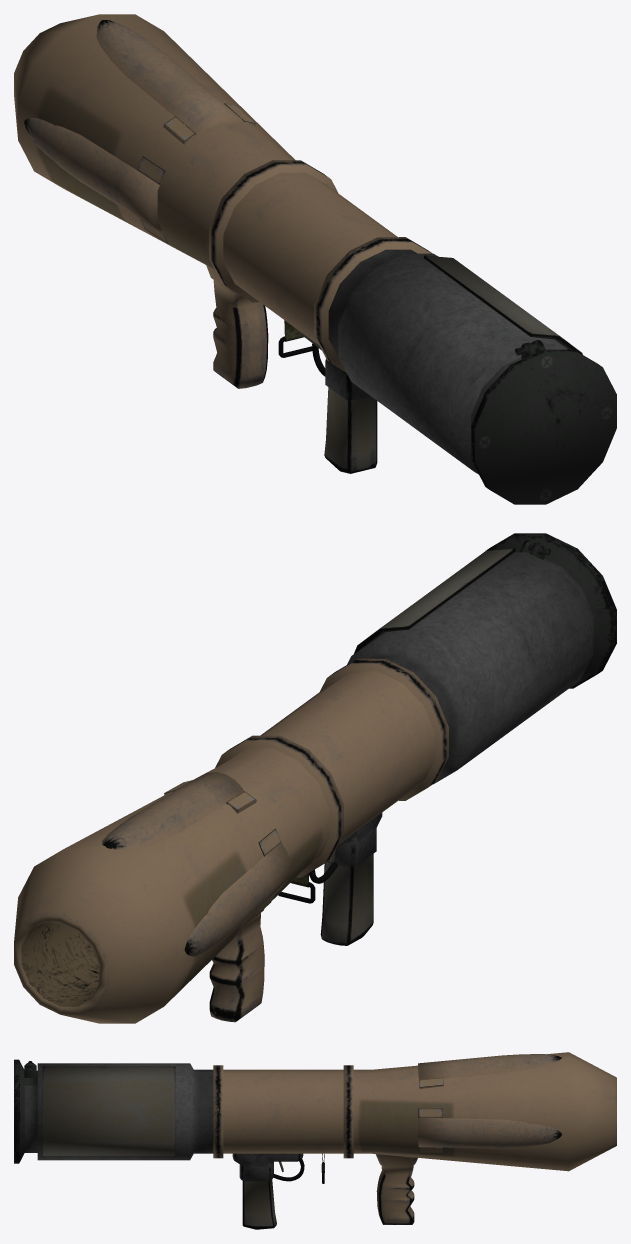
The model's file is RocketLauncherModel.fbx.
3 renders of one model, top to bottom at view 1: azimuth 30°, elevation 25°; view 2: azimuth 150°, elevation 25°; view 3: azimuth 270°, elevation 25°, orthographic. The views are drawn at different scales.
Parts seen in each view (by area): view 1: node_id4; view 2: node_id4; view 3: node_id4.
Part boxes in pixels (bbox=[...]): node_id4: bbox=[14, 14, 616, 504]; node_id4: bbox=[14, 533, 616, 1023]; node_id4: bbox=[14, 1052, 616, 1229].
Size of the model in its own units: 0.3283 by 0.512 by 1.65.
1 material, 1 textured.
